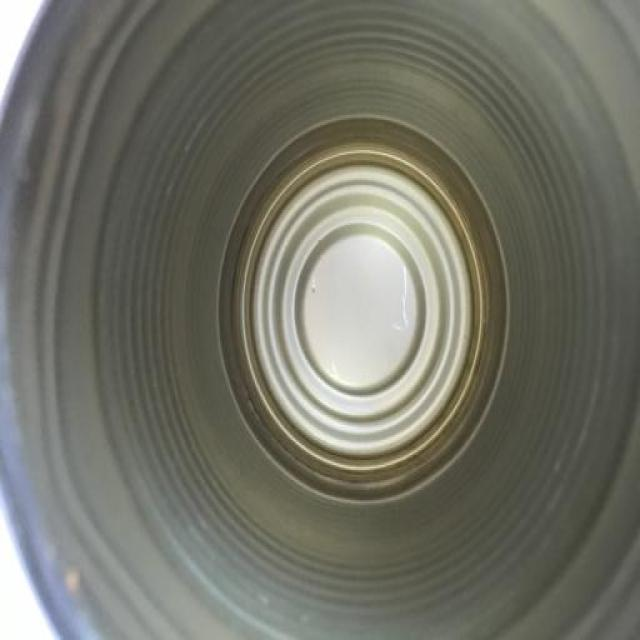Metal: (0, 0, 640, 640)
